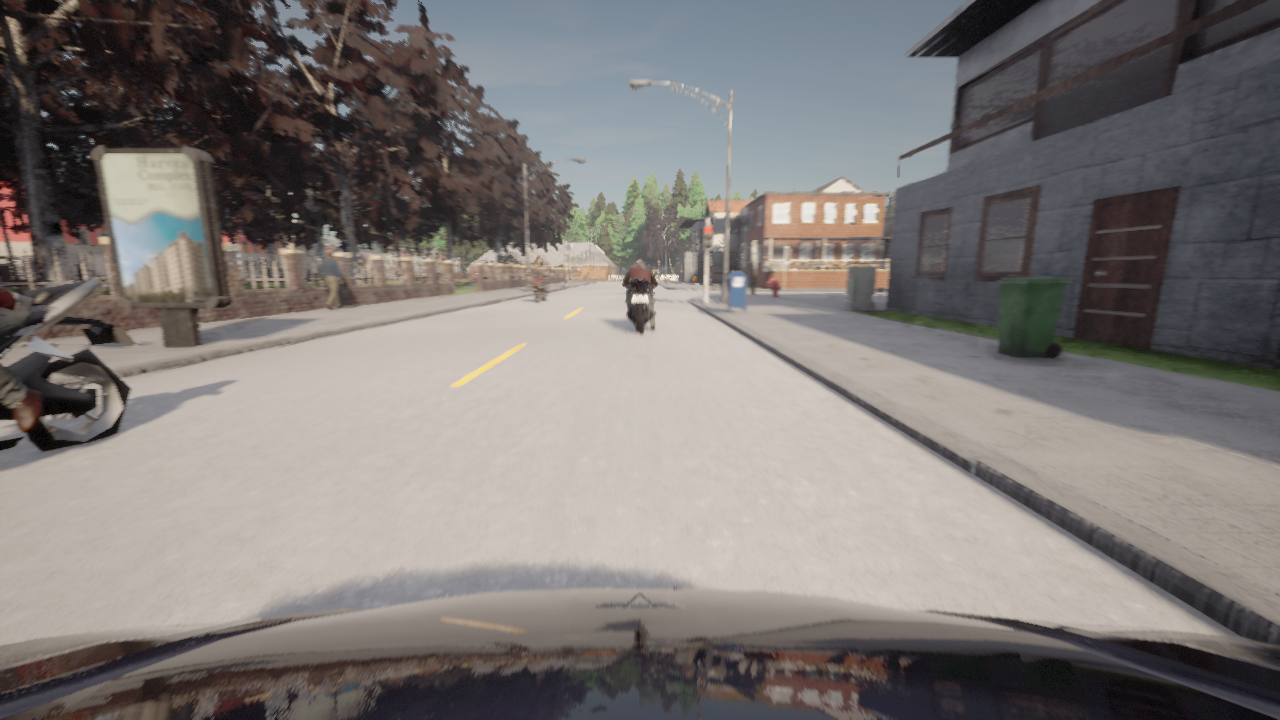cyclist: (0, 588, 1279, 719), (622, 274, 658, 333), (527, 273, 550, 303), (461, 275, 471, 280)
pedestrian: (319, 251, 343, 310)
